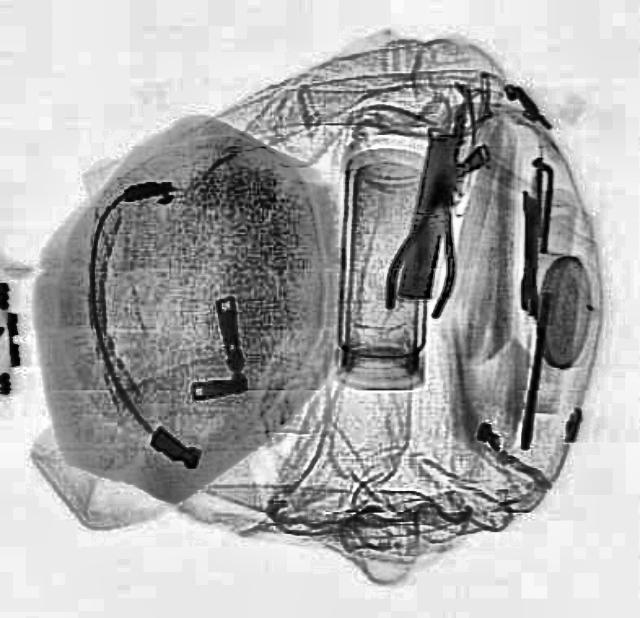Pliers: (375, 165, 479, 317)
